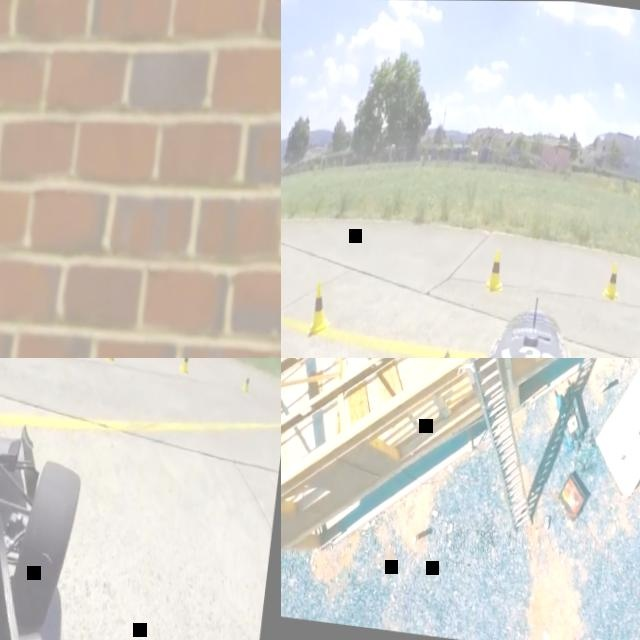Person: (0, 0, 159, 358)
Safety Cone: (305, 279, 336, 334), (482, 250, 507, 297), (600, 256, 623, 303), (238, 368, 252, 398), (177, 358, 192, 377)
vehicle: (0, 358, 113, 640), (333, 270, 640, 358)
